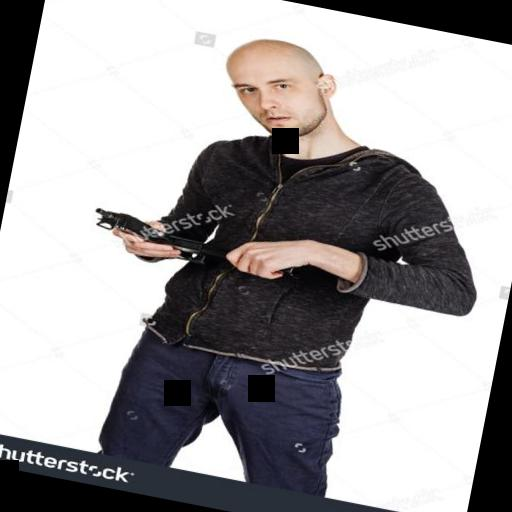Handgun: (85, 202, 216, 268)
